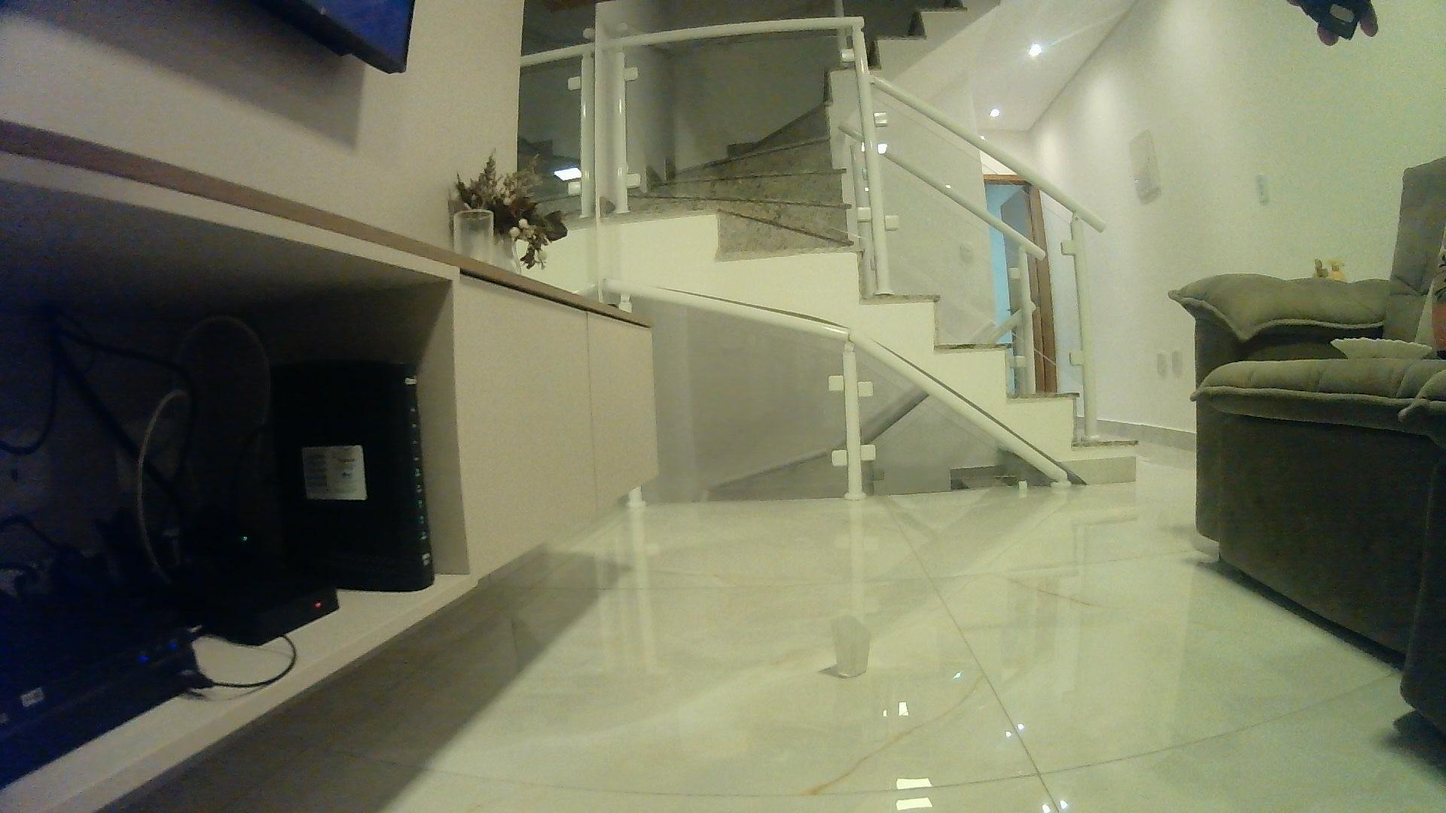erva_daninha: (825, 607, 880, 684)
